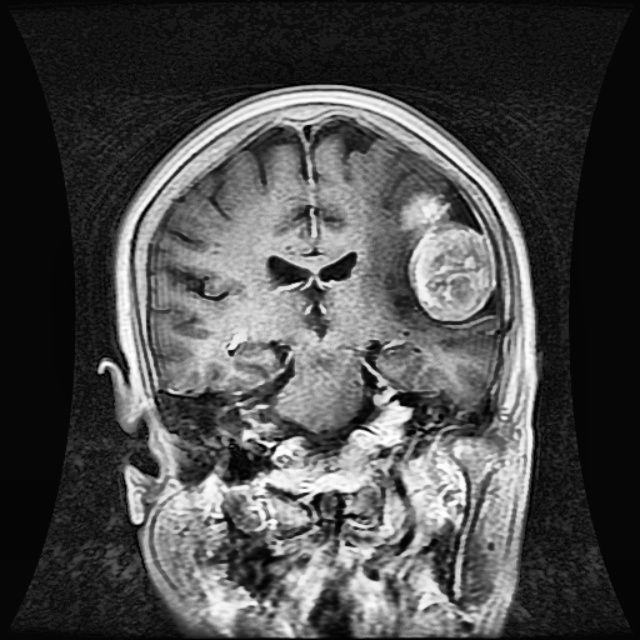Glioma: (398, 189, 495, 320)
